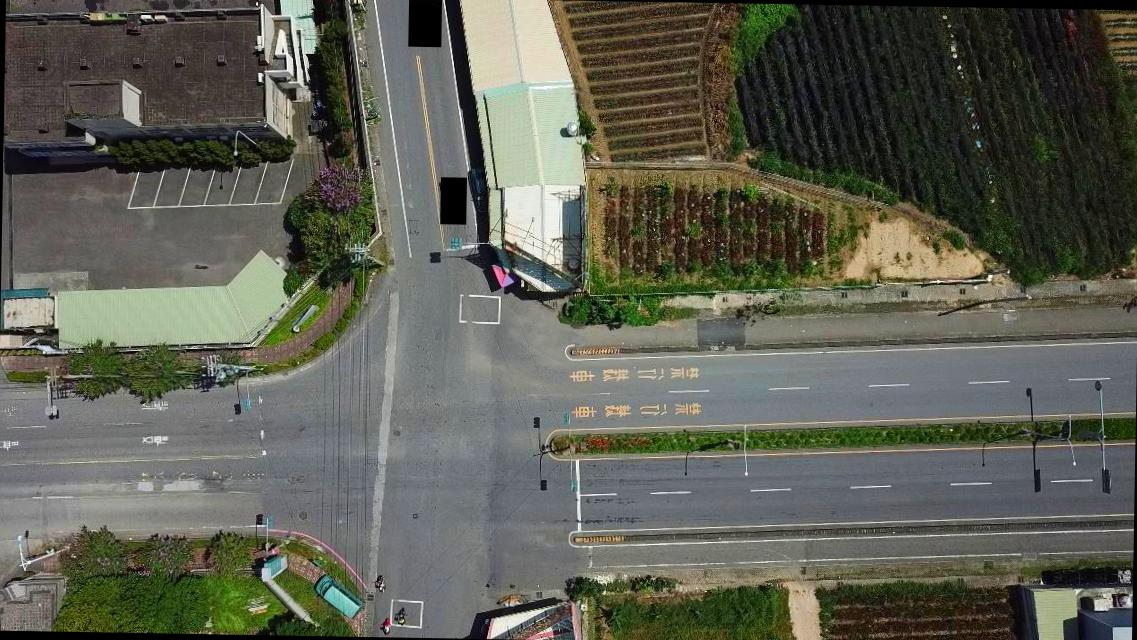vehicle: (314, 576, 363, 620)
